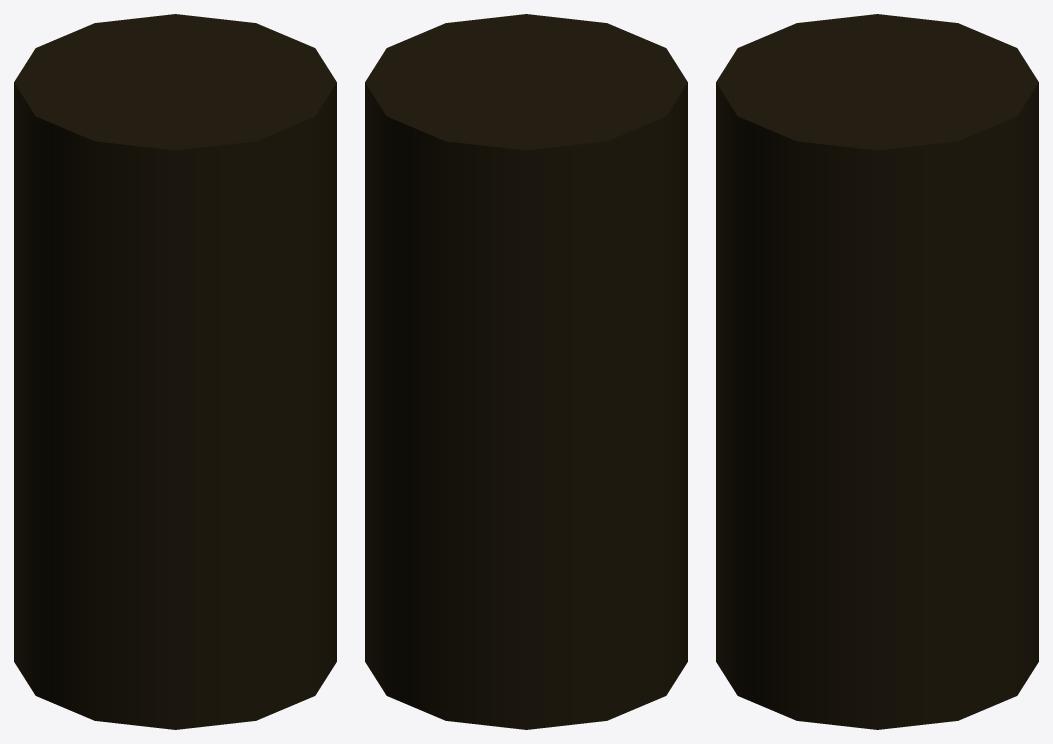
Rendered from mdl_L2Column.fbx.
The picture shows the model from 3 angles, left to right: view 1: azimuth 30°, elevation 25°; view 2: azimuth 150°, elevation 25°; view 3: azimuth 270°, elevation 25°; orthographic projection.
Parts seen in each view (by area): view 1: Circle_002; view 2: Circle_002; view 3: Circle_002.
Boxes of the visible parts, box(x1,y1,x2,y2) form: Circle_002: box(14, 14, 336, 729); Circle_002: box(365, 14, 687, 729); Circle_002: box(716, 14, 1038, 729).
Bounding box in the file's own units: 1.51 × 3 × 1.51.
